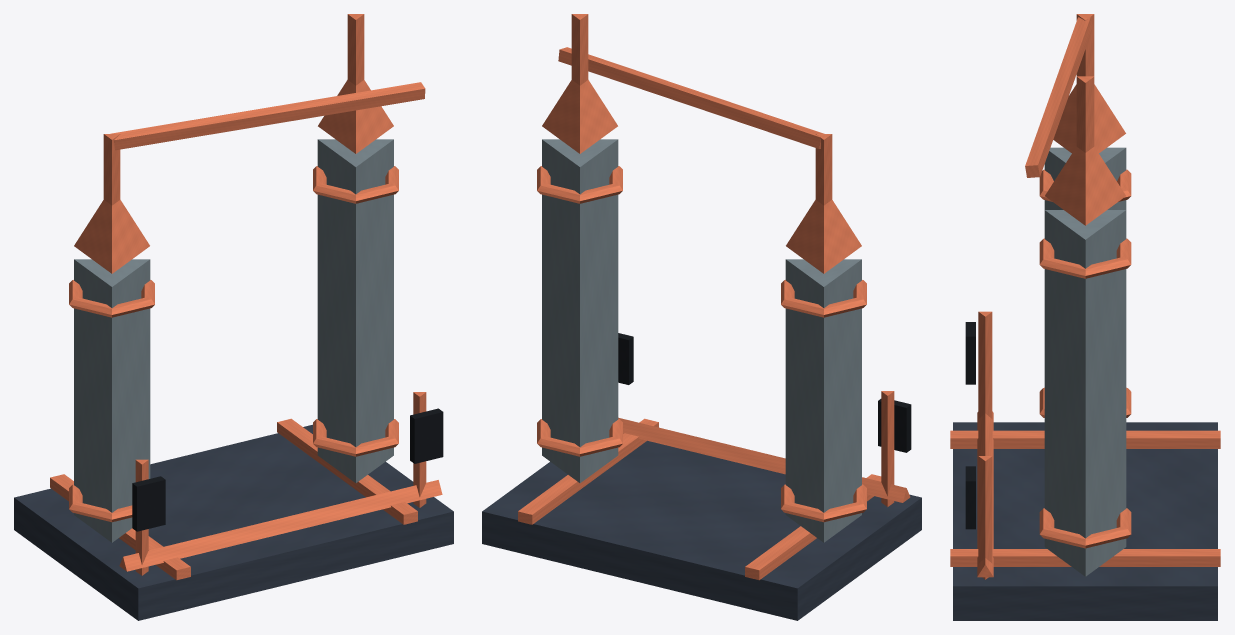
File: atlas100-s030-a02.lod2.glb
3 views of the same model, side by side, from view 1: azimuth 30°, elevation 25°; view 2: azimuth 150°, elevation 25°; view 3: azimuth 270°, elevation 25° (orthographic). The views are drawn at different scales.
Parts seen in each view (by area): view 1: atlas100-s030-a02:part-000, atlas100-s030-a02:part-010, atlas100-s030-a02:part-003, atlas100-s030-a02:part-009, atlas100-s030-a02:part-021, atlas100-s030-a02:part-007, atlas100-s030-a02:part-014, atlas100-s030-a02:part-002, atlas100-s030-a02:part-018, atlas100-s030-a02:part-020, atlas100-s030-a02:part-011, atlas100-s030-a02:part-012 (+7 smaller); view 2: atlas100-s030-a02:part-000, atlas100-s030-a02:part-010, atlas100-s030-a02:part-003, atlas100-s030-a02:part-009, atlas100-s030-a02:part-021, atlas100-s030-a02:part-007, atlas100-s030-a02:part-014, atlas100-s030-a02:part-002, atlas100-s030-a02:part-001, atlas100-s030-a02:part-017, atlas100-s030-a02:part-004, atlas100-s030-a02:part-011 (+6 smaller); view 3: atlas100-s030-a02:part-000, atlas100-s030-a02:part-010, atlas100-s030-a02:part-002, atlas100-s030-a02:part-014, atlas100-s030-a02:part-001, atlas100-s030-a02:part-009, atlas100-s030-a02:part-007, atlas100-s030-a02:part-012, atlas100-s030-a02:part-011, atlas100-s030-a02:part-019, atlas100-s030-a02:part-017, atlas100-s030-a02:part-003 (+6 smaller).
Part boxes in pixels (x1,y1,x2,y2): atlas100-s030-a02:part-000: [14, 424, 453, 620]; atlas100-s030-a02:part-010: [317, 139, 393, 482]; atlas100-s030-a02:part-003: [74, 259, 150, 542]; atlas100-s030-a02:part-009: [110, 82, 425, 150]; atlas100-s030-a02:part-021: [119, 480, 442, 571]; atlas100-s030-a02:part-007: [74, 199, 149, 273]; atlas100-s030-a02:part-014: [318, 80, 393, 153]; atlas100-s030-a02:part-002: [277, 418, 417, 524]; atlas100-s030-a02:part-018: [132, 476, 165, 531]; atlas100-s030-a02:part-020: [410, 408, 443, 463]; atlas100-s030-a02:part-011: [313, 419, 398, 456]; atlas100-s030-a02:part-012: [313, 166, 398, 203]; atlas100-s030-a02:part-000: [482, 440, 921, 620]; atlas100-s030-a02:part-010: [542, 139, 618, 482]; atlas100-s030-a02:part-003: [785, 259, 861, 542]; atlas100-s030-a02:part-009: [558, 47, 824, 148]; atlas100-s030-a02:part-021: [618, 417, 910, 502]; atlas100-s030-a02:part-007: [786, 199, 861, 273]; atlas100-s030-a02:part-014: [542, 80, 617, 153]; atlas100-s030-a02:part-002: [518, 418, 658, 524]; atlas100-s030-a02:part-001: [745, 474, 881, 580]; atlas100-s030-a02:part-017: [881, 391, 894, 506]; atlas100-s030-a02:part-004: [781, 484, 866, 522]; atlas100-s030-a02:part-011: [537, 419, 622, 456]; atlas100-s030-a02:part-000: [953, 422, 1217, 620]; atlas100-s030-a02:part-010: [1044, 210, 1126, 576]; atlas100-s030-a02:part-002: [950, 549, 1220, 566]; atlas100-s030-a02:part-014: [1045, 146, 1125, 225]; atlas100-s030-a02:part-001: [950, 430, 1220, 448]; atlas100-s030-a02:part-009: [1025, 16, 1092, 177]; atlas100-s030-a02:part-007: [1053, 84, 1125, 152]; atlas100-s030-a02:part-012: [1039, 238, 1131, 278]; atlas100-s030-a02:part-011: [1039, 508, 1131, 548]; atlas100-s030-a02:part-019: [978, 456, 992, 579]; atlas100-s030-a02:part-017: [978, 311, 992, 418]; atlas100-s030-a02:part-003: [1044, 147, 1126, 209].
Bounding box in the file's own units: 2.76 × 3.93 × 1.84.
4 materials, 4 textured.
